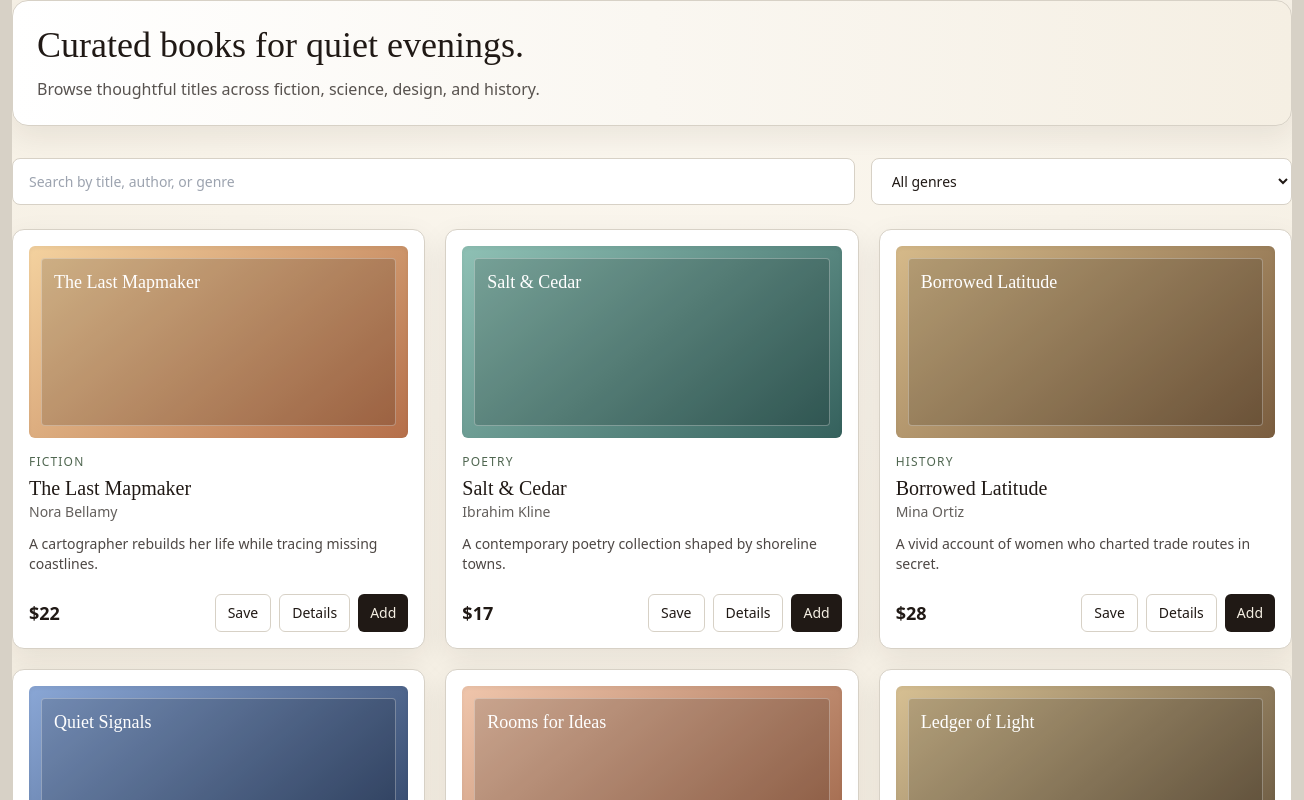
Test: storefront interactions › filters by search and genre
The image size is (1304, 800).
Type "mapmaker" into the field with placeholder "Search by title, author, or genre".
click(433, 182); type("mapmaker")  # box [12, 158, 855, 205]
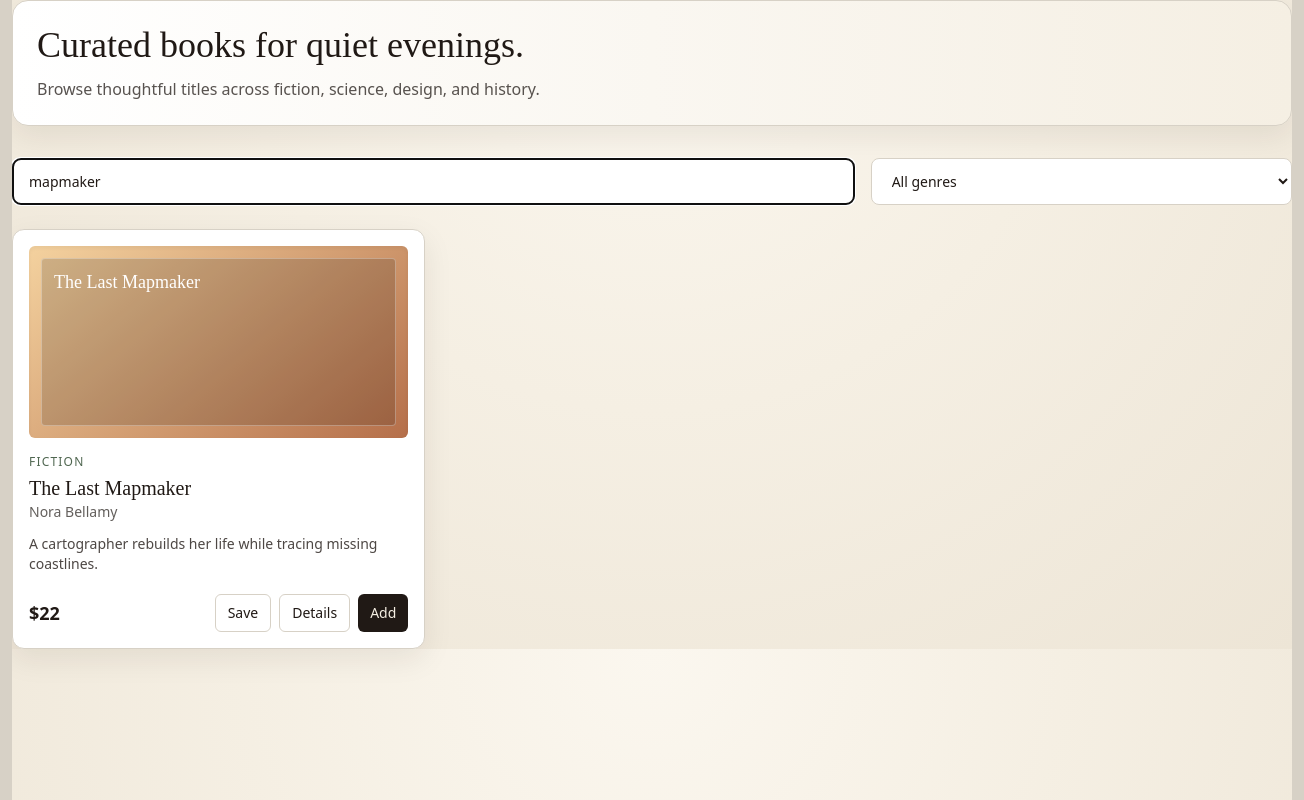
Expected: the text "The Last Mapmaker" is shown, [54, 272, 200, 292]
Clear the field with placeholder "Search by title, author, or genre" at (433, 182), box [12, 158, 855, 205]
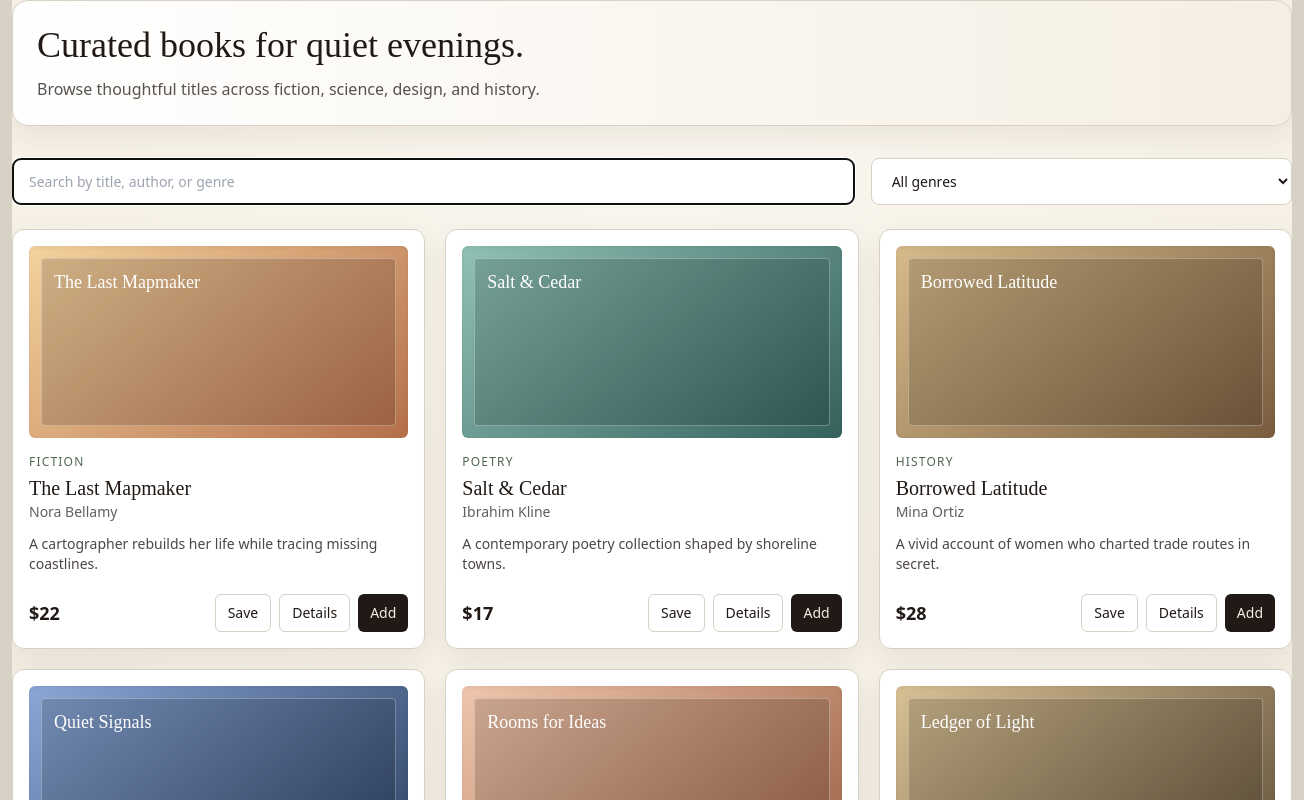
Select "Poetry" in the dropdown at (1081, 182), box [871, 158, 1292, 205]
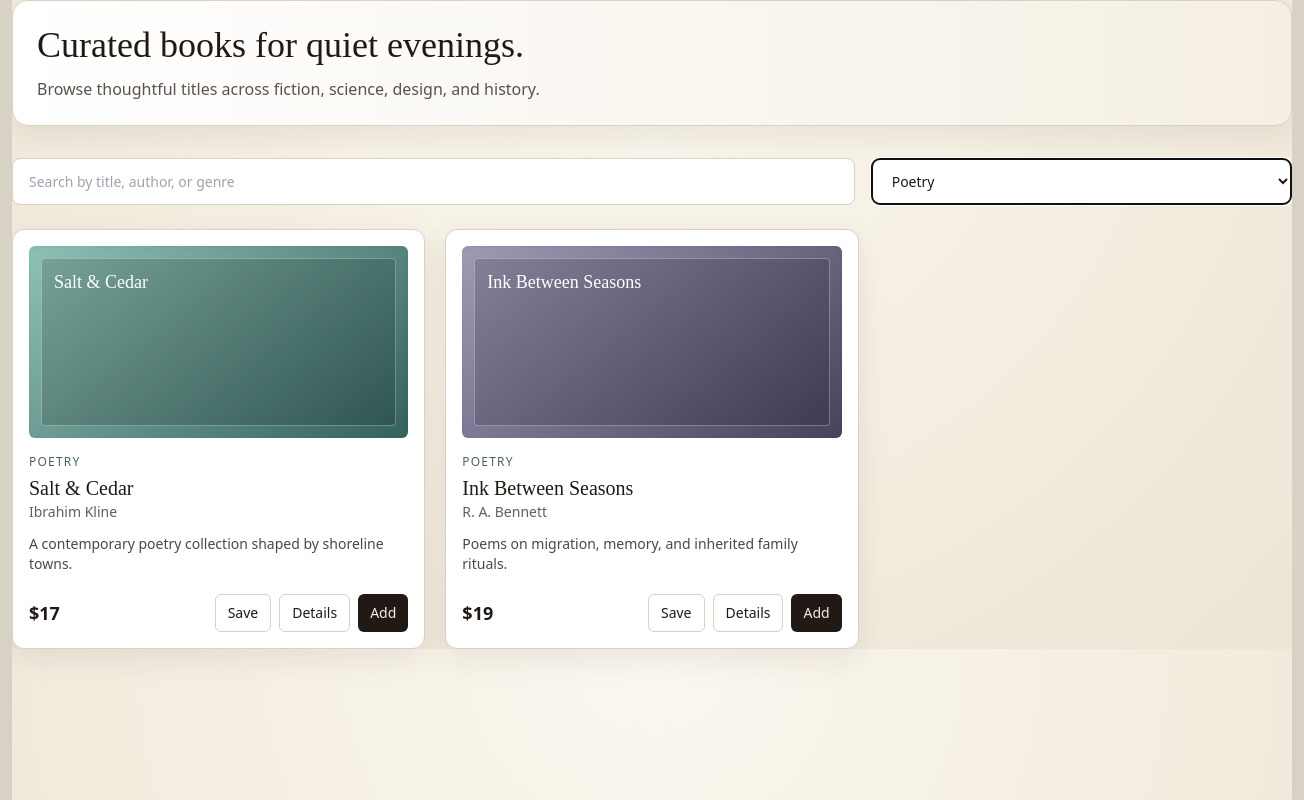
Expected: the text "Salt & Cedar" is shown, [54, 272, 148, 292]
Expected: the text "The Last Mapmaker" is gone
